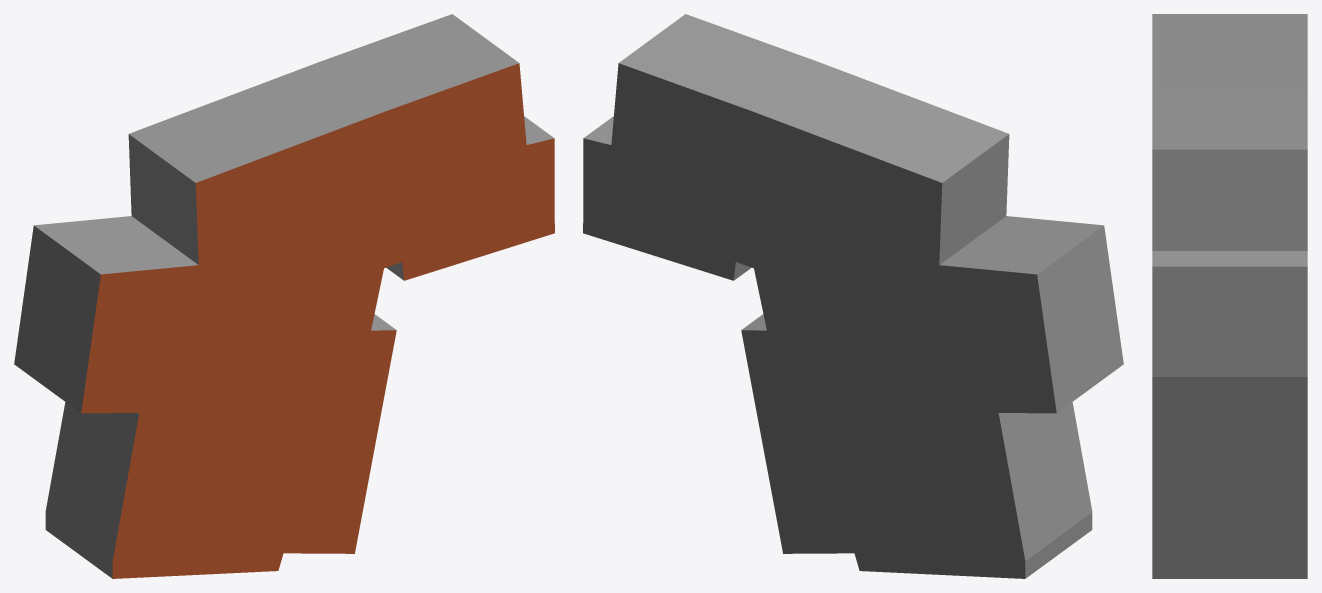
File: construction_4845_assumed_A_Casa_h6m.obj
3 views of the same model, side by side, from view 1: azimuth 30°, elevation 25°; view 2: azimuth 150°, elevation 25°; view 3: azimuth 270°, elevation 25° (orthographic). The views are drawn at different scales.
Visible parts, largest first — view 1: construction_4845_assumed_A_Casa; view 2: construction_4845_assumed_A_Casa; view 3: construction_4845_assumed_A_Casa.
Part boxes in pixels (box(x1,y1,x2,y2)): construction_4845_assumed_A_Casa: box(14, 14, 554, 578); construction_4845_assumed_A_Casa: box(583, 14, 1123, 578); construction_4845_assumed_A_Casa: box(1152, 14, 1307, 578).
Size of the model in its own units: 24.45 by 22.23 by 6.
